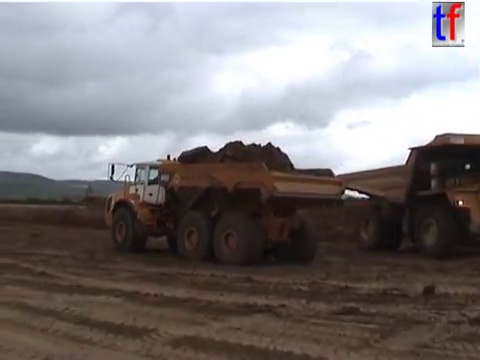truck: (101, 151, 350, 267), (328, 130, 480, 260)
